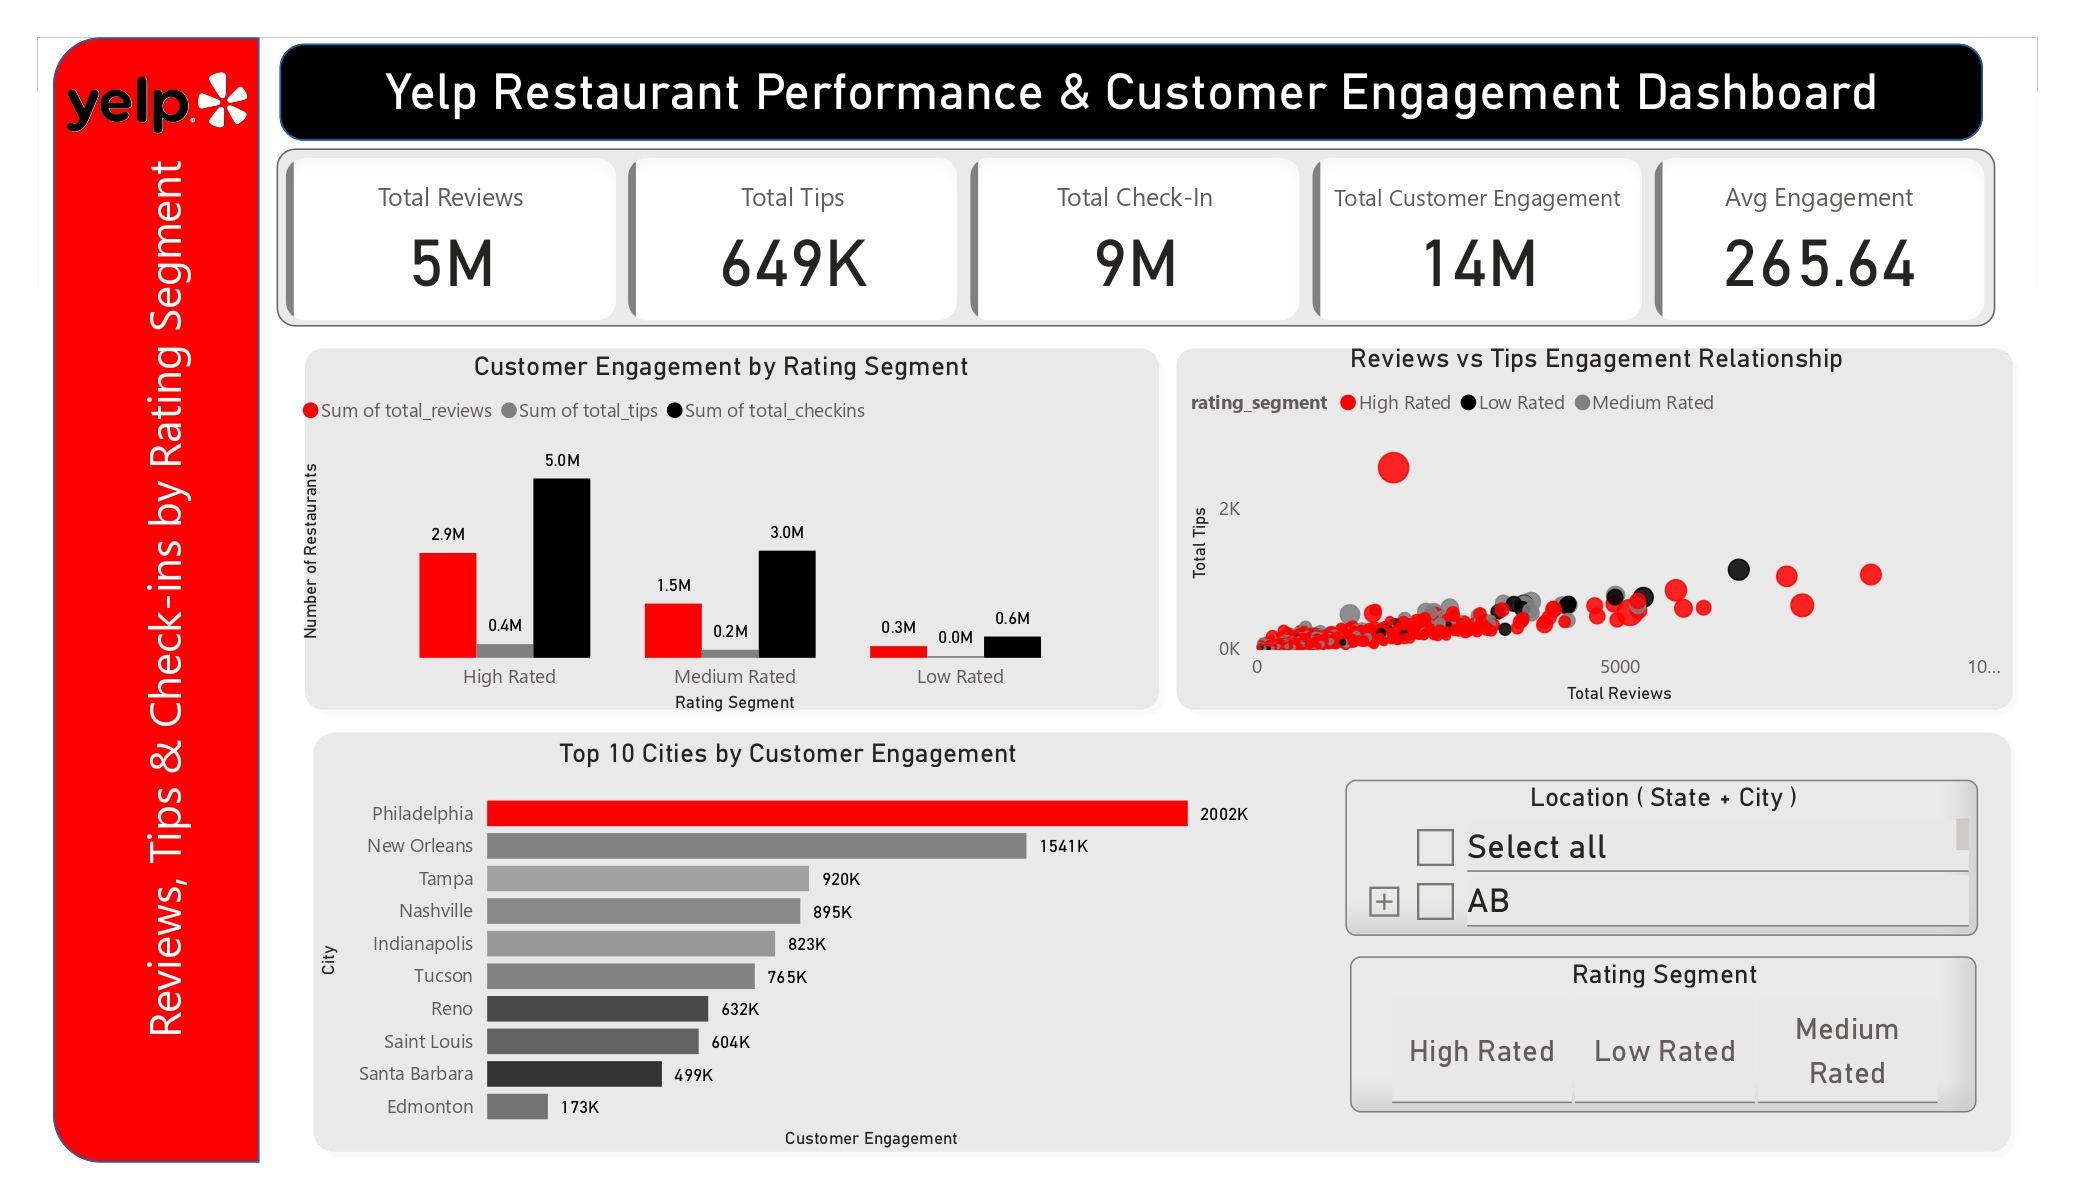

The dashboard page shown, as its layout file describes it:
{"tool":"powerbi","page":{"name":"Reviews, Tips & Check-ins by Rating Segment","canvas":[1280,720],"ordinal":3},"visuals":[{"type":"shape","box":[9.5,0,132.1,720.2],"z":0,"group":"g1"},{"type":"shape","box":[170,437.5,1100,282.5],"z":0},{"type":"shape","box":[155.1,4.1,1089.5,61.7],"z":1000},{"type":"shape","box":[721.6,191.7,548.8,245],"z":1500,"group":"g1"},{"type":"group","id":"g1","title":"Group 1","box":[9.5,0,1260.8,720.2],"z":2000},{"type":"shape","box":[163.7,191.7,560,245],"z":2250,"group":"g1"},{"type":"image","box":[0,0,155.3,85.6],"z":3000},{"type":"cardVisual","fields":{"Data":["Table.Total Reviews","Table.Total Tips","Table.Total Check-In","Table.Total Engagement","Table.Avg Engagement"]},"box":[152.6,71.2,1100,113.8],"z":3000,"group":"g1"},{"type":"clusteredBarChart","title":"Top 10 Cities by Customer Engagement","fields":{"Category":["yelp_summary_dataset.city"],"Y":["Table.Total Engagement"]},"box":[176.2,447.5,608.8,268.8],"z":4000},{"type":"scatterChart","title":"Reviews vs Tips Engagement Relationship","fields":{"X":["Sum(yelp_summary_dataset.total_reviews)"],"Y":["Sum(yelp_summary_dataset.total_tips)"],"Size":["Sum(yelp_summary_dataset.total_checkins)"],"Series":["yelp_summary_dataset.rating_segment"],"Category":["yelp_summary_dataset.name"]},"box":[732.5,195,530,236.2],"z":5000},{"type":"lineClusteredColumnComboChart","title":"Customer Engagement by Rating Segment","fields":{"Category":["yelp_summary_dataset.rating_segment"],"Y":["Sum(yelp_summary_dataset.total_reviews)","Sum(yelp_summary_dataset.total_tips)","Sum(yelp_summary_dataset.total_checkins)"]},"box":[163.7,200,546.7,236.7],"z":5000,"group":"g1"},{"type":"slicer","title":"Location ( State + City )","fields":{"Values":["yelp_summary_dataset.state","yelp_summary_dataset.city"]},"box":[837.4,475.4,404.3,100],"z":6000},{"type":"slicer","title":"Rating Segment","fields":{"Values":["yelp_summary_dataset.rating_segment"]},"box":[840,588.5,401.4,100],"z":7000}]}

Visuals, with their boxes on the page's 1280x720 design canvas (x1, y1, x2, y2). These are canvas units, not pixel positions in the 2075x1200 screenshot, which may show the page scaled, cropped or inside an application window:
shape: bbox=(10, 0, 142, 720)
shape: bbox=(170, 438, 1270, 720)
shape: bbox=(155, 4, 1245, 66)
shape: bbox=(722, 192, 1270, 437)
"Group 1" group: bbox=(10, 0, 1270, 720)
shape: bbox=(164, 192, 724, 437)
image: bbox=(0, 0, 155, 86)
cardVisual - Table.Total Reviews x Table.Total Tips: bbox=(153, 71, 1253, 185)
"Top 10 Cities by Customer Engagement" clusteredBarChart: bbox=(176, 448, 785, 716)
"Reviews vs Tips Engagement Relationship" scatterChart: bbox=(732, 195, 1262, 431)
"Customer Engagement by Rating Segment" lineClusteredColumnComboChart: bbox=(164, 200, 710, 437)
"Location ( State + City )" slicer: bbox=(837, 475, 1242, 575)
"Rating Segment" slicer: bbox=(840, 588, 1241, 688)
